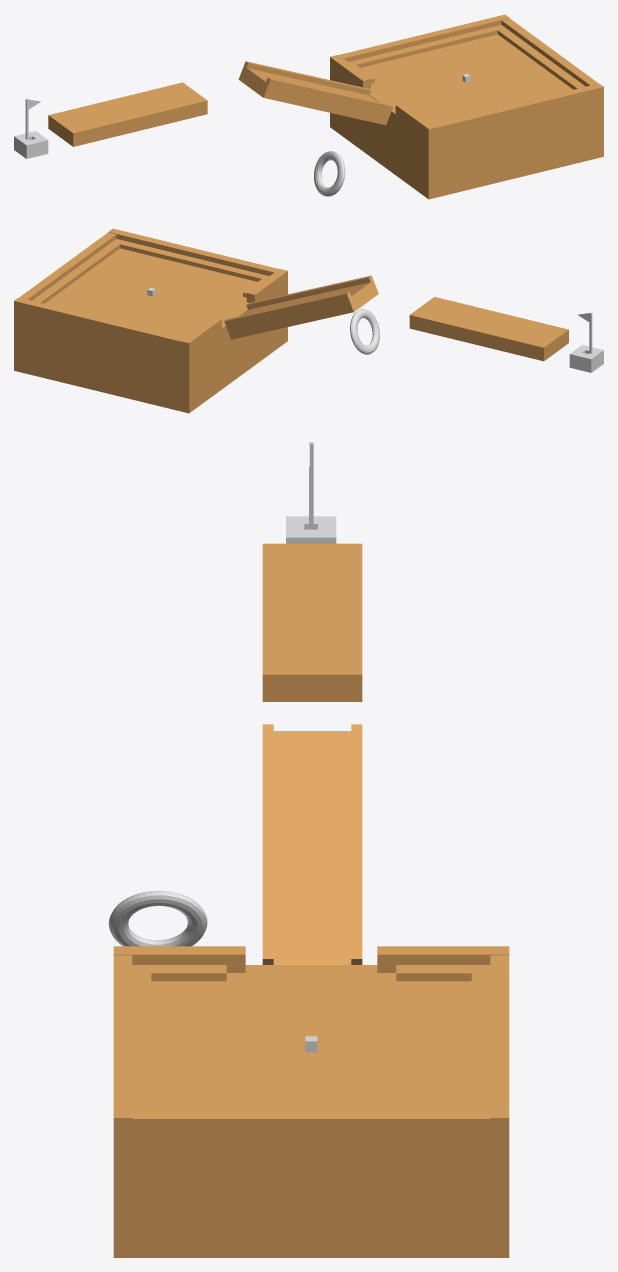
The model's file is eni.glb.
3 renders of one model, top to bottom at view 1: azimuth 30°, elevation 25°; view 2: azimuth 150°, elevation 25°; view 3: azimuth 270°, elevation 25°, orthographic. The views are drawn at different scales.
Parts seen in each view (by area): view 1: Cube, Cube.002, Cube.001, Cube.003, Torus; view 2: Cube, Cube.002, Cube.001, Cube.003, Torus; view 3: Cube, Cube.001, Cube.002, Torus, Cube.003.
Boxes of the visible parts, bbox=[...] form: Cube: bbox=[330, 14, 603, 199]; Cube.002: bbox=[48, 82, 207, 146]; Cube.001: bbox=[238, 61, 392, 125]; Cube.003: bbox=[14, 98, 48, 158]; Torus: bbox=[314, 151, 345, 196]; Cube: bbox=[14, 228, 287, 413]; Cube.002: bbox=[409, 297, 568, 361]; Cube.001: bbox=[224, 275, 378, 339]; Cube.003: bbox=[569, 312, 603, 372]; Torus: bbox=[350, 309, 379, 354]; Cube: bbox=[113, 946, 509, 1257]; Cube.001: bbox=[262, 724, 362, 964]; Cube.002: bbox=[262, 543, 362, 701]; Torus: bbox=[108, 890, 207, 946]; Cube.003: bbox=[286, 442, 336, 543].
Bounding box in the file's own units: 31.18 × 8.37 × 10.13.
